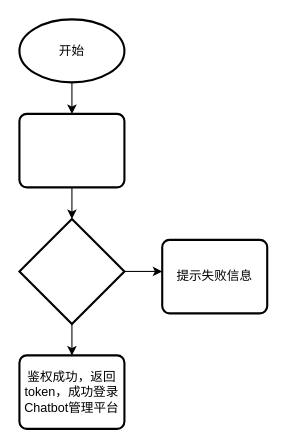
Image size: 286x447. Some labels were removed from this diagram. Each missing label, with the box of its shape:
RPA用户登陆 服务鉴权: (18, 217, 125, 324)
用户选择通过第三方登录Chatbot管理平台: (18, 112, 125, 188)
